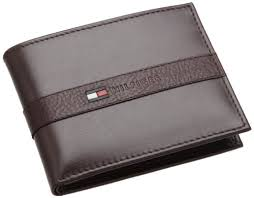monedero: (3, 3, 251, 196)
